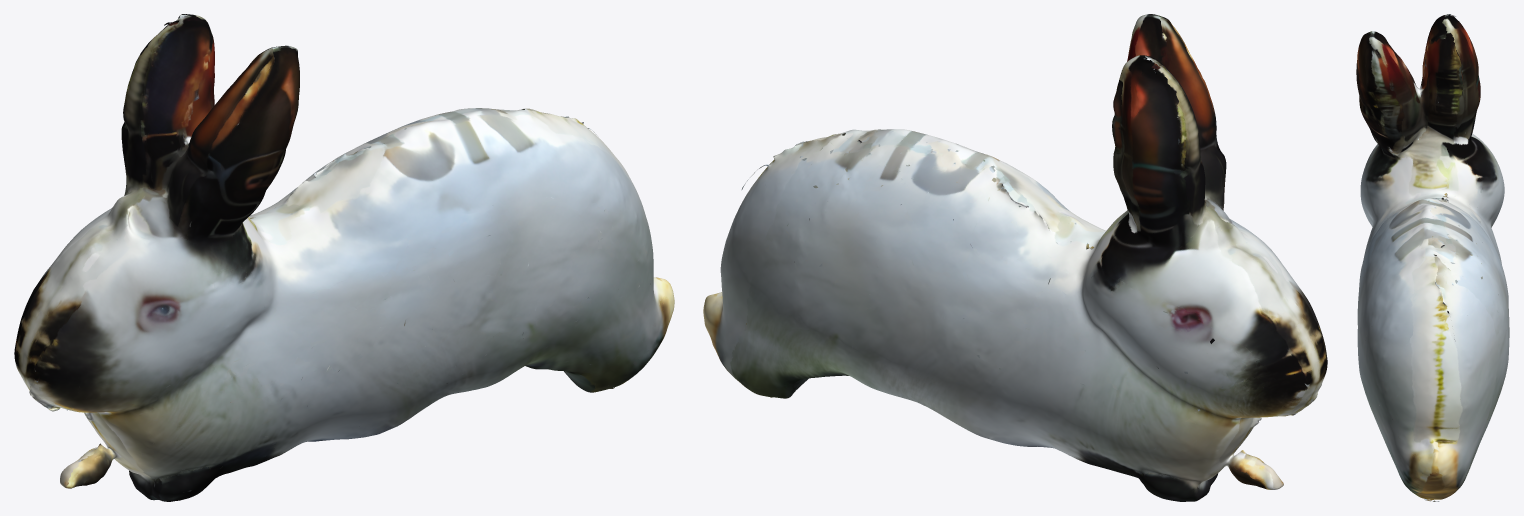
Rendered from joven.glb.
The picture shows the model from 3 angles, left to right: view 1: azimuth 30°, elevation 25°; view 2: azimuth 150°, elevation 25°; view 3: azimuth 270°, elevation 25°; orthographic projection. The views are drawn at different scales.
Parts seen in each view (by area): view 1: mesh; view 2: mesh; view 3: mesh.
Boxes of the visible parts, x1,y1,x2,y2 form: mesh: (14, 14, 674, 501); mesh: (703, 14, 1327, 501); mesh: (1356, 14, 1509, 501).
Size of the model in its own units: 1.81 by 1.24 by 0.5047.
Materials: 1 (1 with a texture image).
